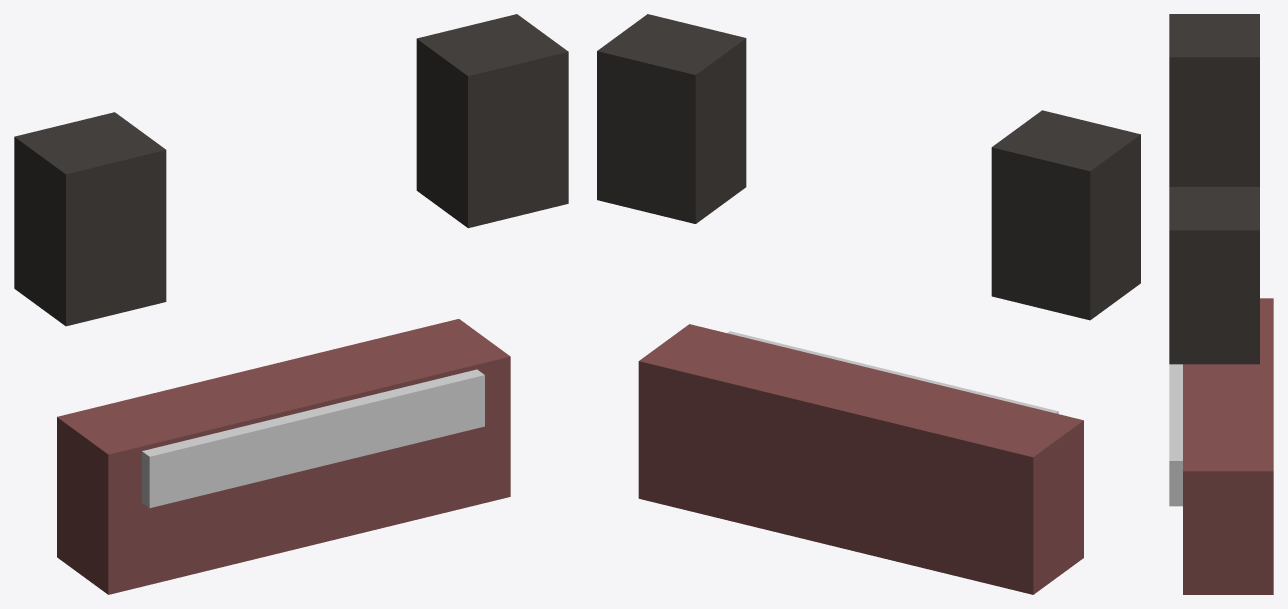
Rendered from av_face_grin.glb.
3 views of the same model, side by side, from view 1: azimuth 30°, elevation 25°; view 2: azimuth 150°, elevation 25°; view 3: azimuth 270°, elevation 25° (orthographic). The views are drawn at different scales.
Bounding box in the file's own units: 0.225 × 0.1875 × 0.046.
